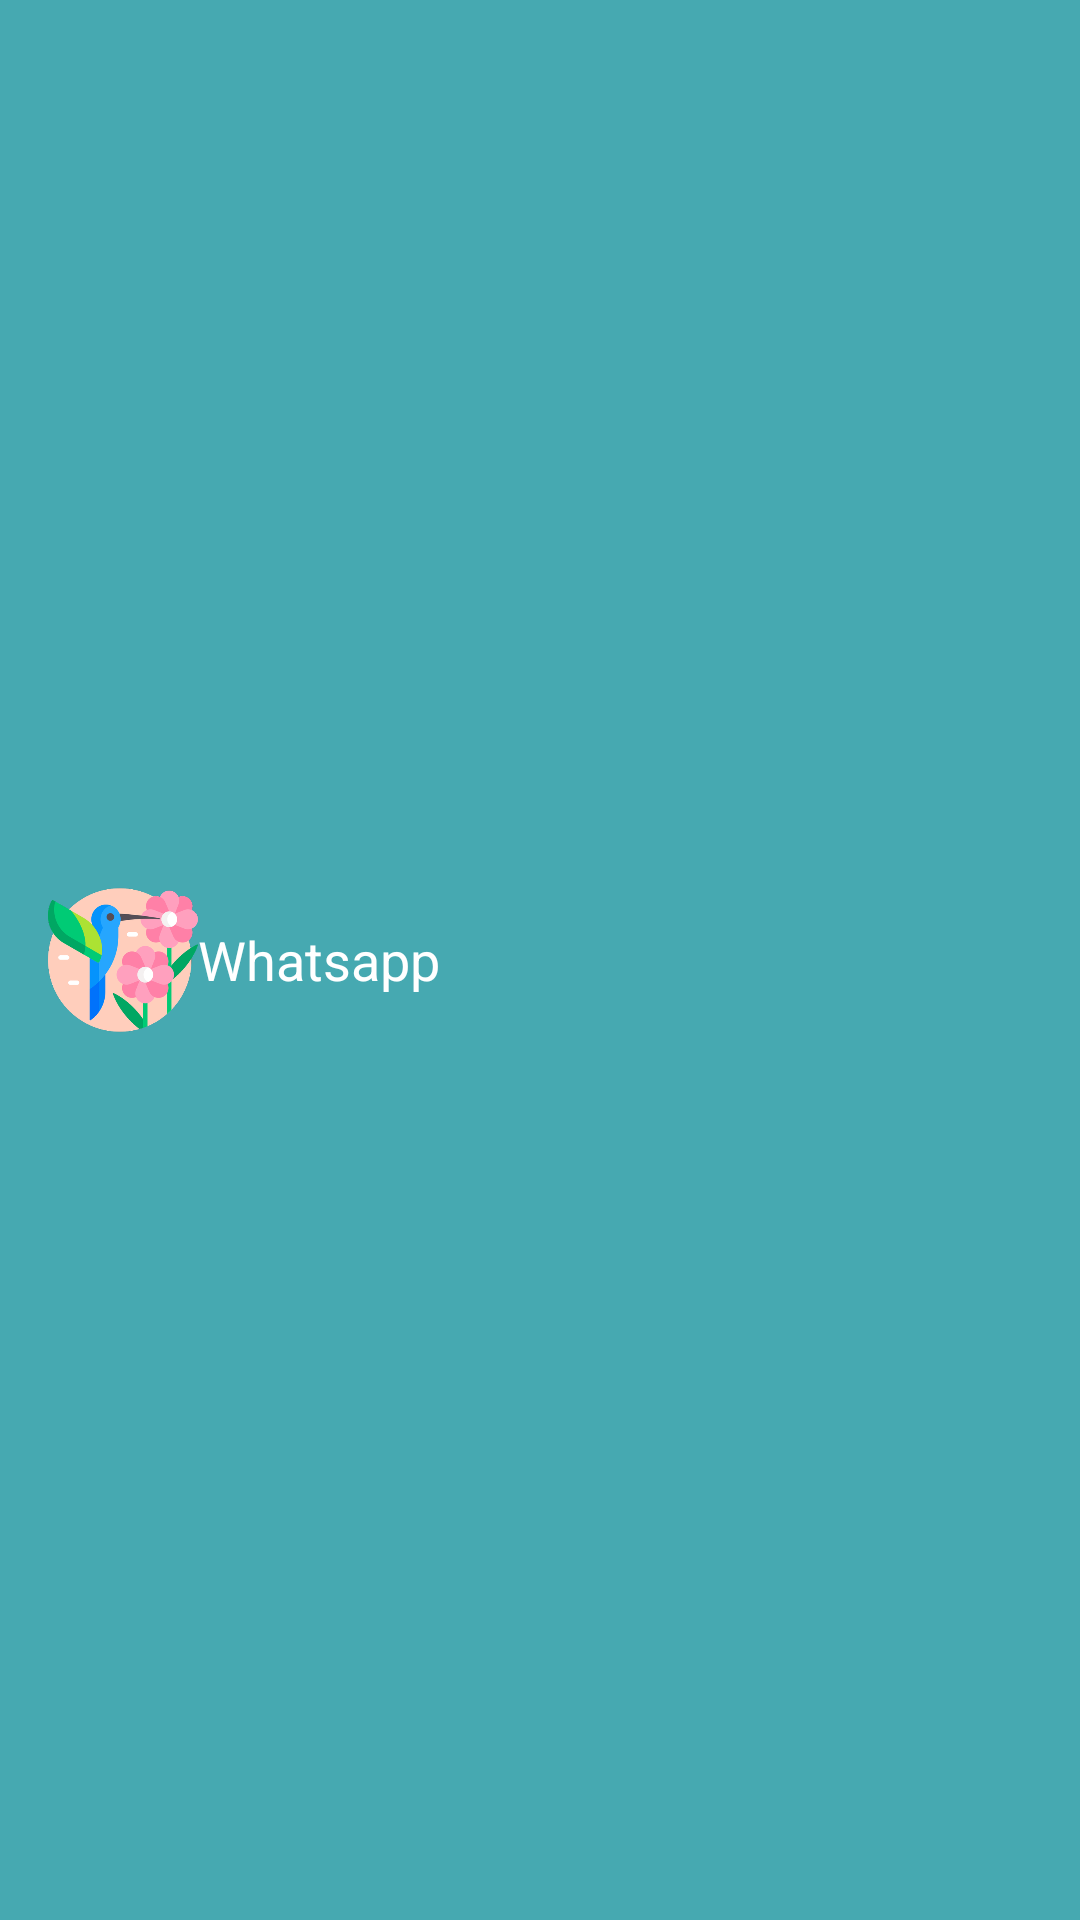

Screen size 1080px×1920px. Icon name, then its center in pixels as [x,y]:
beija flor: [123,960]
